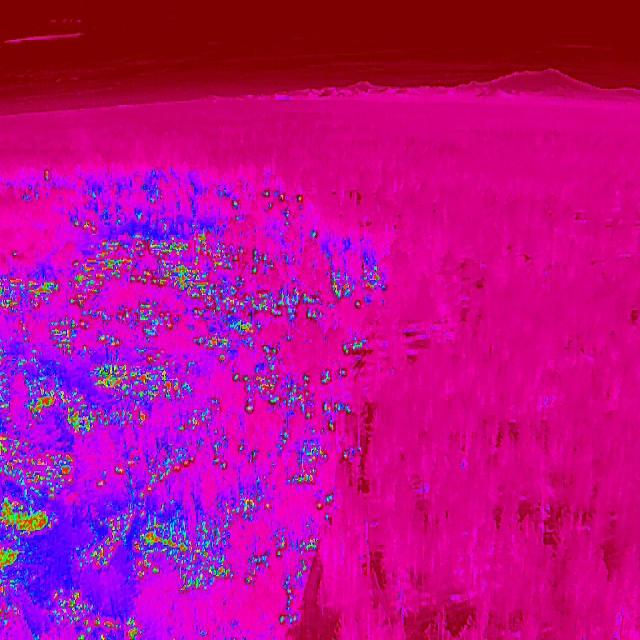fire: (38, 308, 238, 404), (68, 214, 234, 308), (0, 383, 92, 539), (240, 352, 360, 432), (233, 248, 325, 338), (132, 520, 242, 592), (45, 587, 162, 640), (95, 446, 202, 502), (274, 532, 326, 628), (321, 262, 396, 312), (1, 272, 64, 331), (269, 430, 332, 488), (88, 506, 136, 576), (218, 477, 278, 519), (230, 187, 308, 215), (210, 445, 263, 476), (172, 408, 222, 440), (98, 411, 154, 437), (243, 542, 271, 592), (0, 542, 29, 578), (340, 332, 373, 356), (0, 579, 17, 596), (313, 497, 326, 514), (42, 167, 54, 185)
